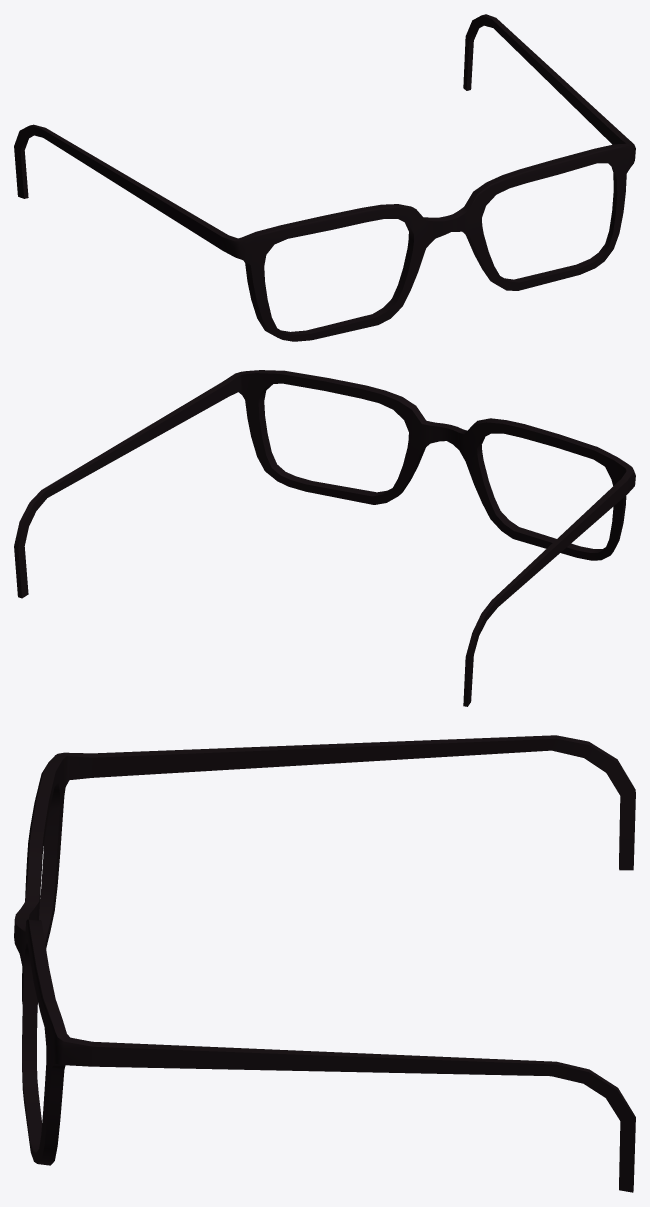
File: Glasses.fbx
3 views of the same model, one above another, from view 1: azimuth 30°, elevation 25°; view 2: azimuth 150°, elevation 25°; view 3: azimuth 270°, elevation 25° (orthographic). The views are drawn at different scales.
Visible parts, largest first — view 1: Wolf3D_Glasses.001; view 2: Wolf3D_Glasses.001; view 3: Wolf3D_Glasses.001.
Part boxes in pixels (left/top/right/bottom): Wolf3D_Glasses.001: left=14, top=14, right=635, bottom=341; Wolf3D_Glasses.001: left=14, top=370, right=635, bottom=706; Wolf3D_Glasses.001: left=14, top=735, right=635, bottom=1192.
Bounding box in the file's own units: 16.47 × 4.03 × 13.08.
